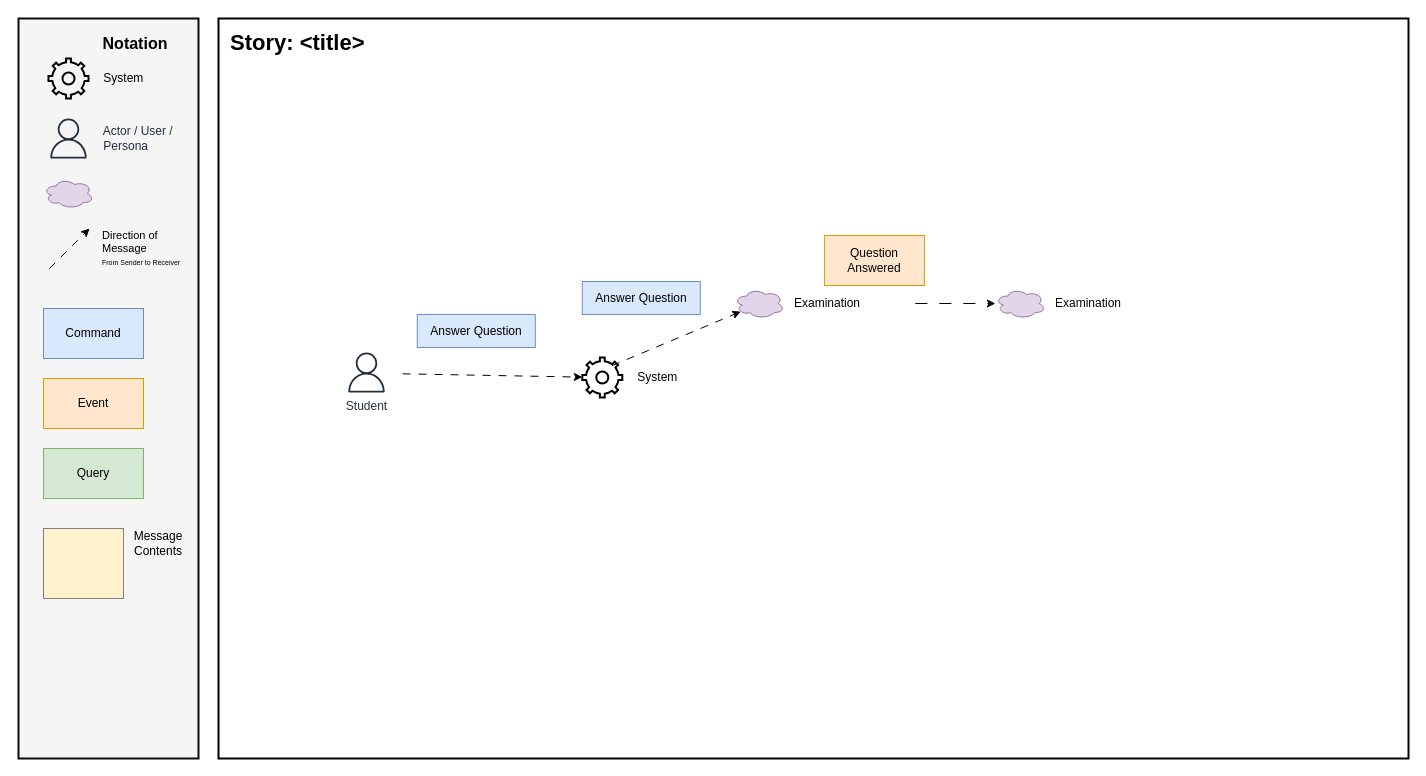
This 1426x776 diagram has some shape labels left out. Each missing label, with the centre of its shape:
- field1 - field 2 - field 3 - field 4: (83,563)
Bounded Context: (68,193)
